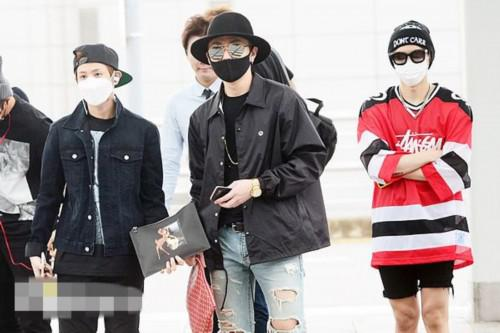NONE: (188, 38, 218, 76)
OK: (77, 63, 114, 106), (395, 50, 430, 88)
WRONG: (210, 39, 251, 82)
